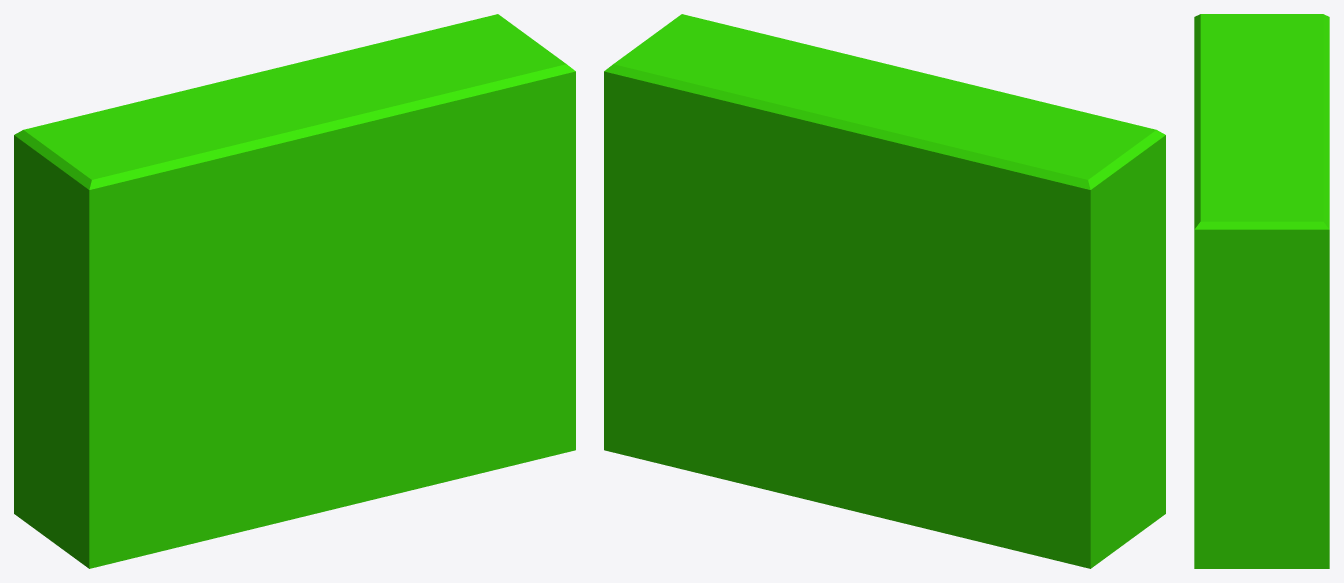
Rendered from basic_4x3.fbx.
The picture shows the model from 3 angles, left to right: view 1: azimuth 30°, elevation 25°; view 2: azimuth 150°, elevation 25°; view 3: azimuth 270°, elevation 25°; orthographic projection. The views are drawn at different scales.
Visible parts, largest first — view 1: basic_4x3; view 2: basic_4x3; view 3: basic_4x3.
Part boxes in pixels (x1,y1,x2,y2): basic_4x3: (14,14,575,568); basic_4x3: (604,14,1165,568); basic_4x3: (1194,14,1329,568).
Size of the model in its own units: 410 by 310 by 110.
